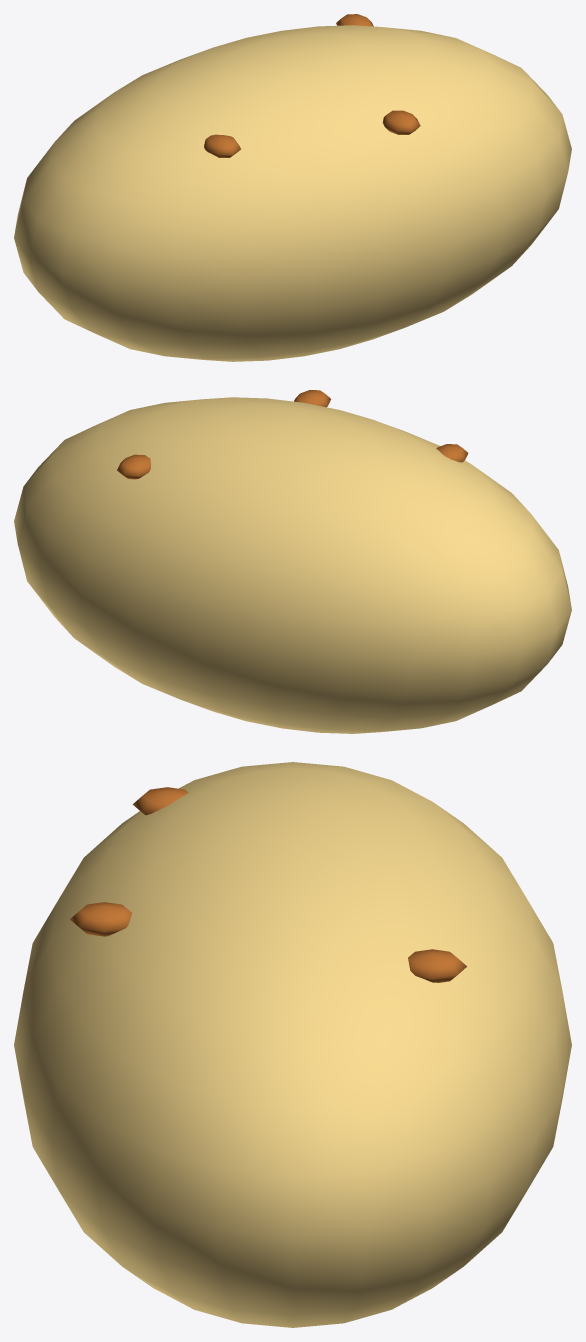
The model's file is potato.glb.
3 views of the same model, one above another, from view 1: azimuth 30°, elevation 25°; view 2: azimuth 150°, elevation 25°; view 3: azimuth 270°, elevation 25° (orthographic). The views are drawn at different scales.
Parts seen in each view (by area): view 1: edible_potato, edible_eye.002, edible_eye; view 2: edible_potato, edible_eye.001, edible_eye.002; view 3: edible_potato, edible_eye.002, edible_eye.001, edible_eye.
Part boxes in pixels (<box>): edible_potato: <box>14,25,571,361</box>; edible_eye.002: <box>382,110,420,134</box>; edible_eye: <box>204,134,240,157</box>; edible_potato: <box>14,397,571,733</box>; edible_eye.001: <box>117,454,150,479</box>; edible_eye.002: <box>294,390,330,407</box>; edible_potato: <box>14,762,571,1327</box>; edible_eye.002: <box>70,902,132,936</box>; edible_eye.001: <box>408,949,466,982</box>; edible_eye: <box>133,787,188,815</box>.
Bounding box in the file's own units: 0.13 × 0.066 × 0.08.
